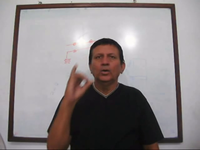oi: (65, 62, 95, 102)
